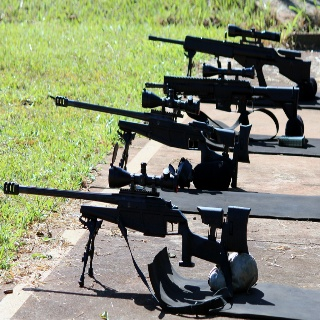rifle: (3, 160, 251, 298), (55, 87, 254, 170), (146, 22, 313, 88), (143, 61, 301, 126)
